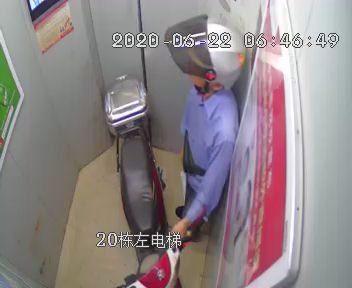Electric-bicycle: (104, 73, 186, 286)
